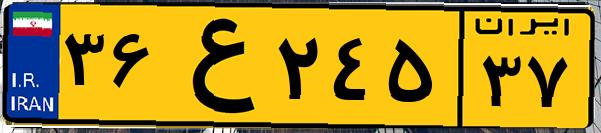2: (270, 28, 330, 110)
3: (57, 26, 110, 100), (475, 38, 525, 113)
4: (330, 28, 385, 110)
5: (385, 28, 445, 110)
6: (110, 28, 158, 98)
7: (525, 38, 570, 115)
ع: (158, 12, 270, 120)
